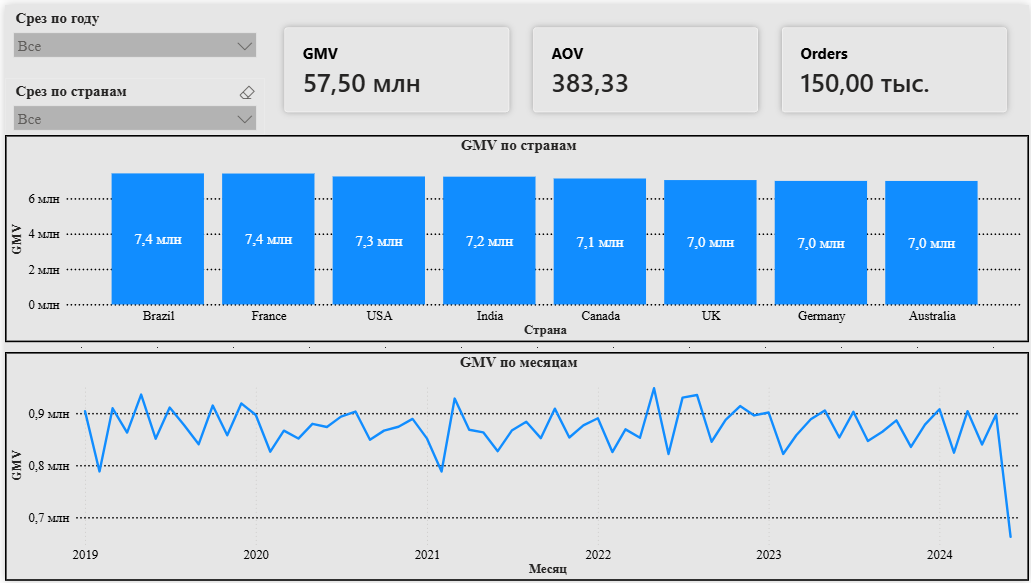

Layout of this report page (visuals, bound fields, positions):
{"tool":"powerbi","page":{"name":"Overview","canvas":[1280,720],"ordinal":0},"visuals":[{"type":"cardVisual","fields":{"Data":["clean_orders.GMV","clean_orders.AOV","clean_orders.Orders"]},"box":[321,0,959,162],"z":0},{"type":"slicer","fields":{"Values":["clean_orders.order_date.Изменение.Иерархия дат.Год"]},"box":[0,0,325,91.2],"z":1000},{"type":"slicer","fields":{"Values":["clean_orders.country"]},"box":[0,91,325,71],"z":2000},{"type":"clusteredColumnChart","title":"GMV по странам","fields":{"Y":["clean_orders.GMV"],"Category":["clean_orders.country"]},"box":[0,162.5,1280,258.8],"z":3000},{"type":"lineChart","title":"GMV по месяцам","fields":{"Y":["clean_orders.GMV"],"Category":["clean_orders.order_date.Изменение.Иерархия дат.Год","clean_orders.order_date.Изменение.Иерархия дат.Месяц"]},"box":[0,433.8,1280,286.2],"z":4000}]}

Visuals, with their boxes in screenshot pixels (x1, y1, x2, y2), scaled from the page's 1280x720 canvas onto the 1031x583 screenshot:
cardVisual - clean_orders.GMV x clean_orders.AOV: detection(259, 0, 1030, 131)
slicer - clean_orders.order_date.Изменение.Иерархия дат.Год: detection(0, 0, 262, 74)
slicer - clean_orders.country: detection(0, 74, 262, 131)
"GMV по странам" clusteredColumnChart: detection(0, 132, 1030, 341)
"GMV по месяцам" lineChart: detection(0, 351, 1030, 582)
